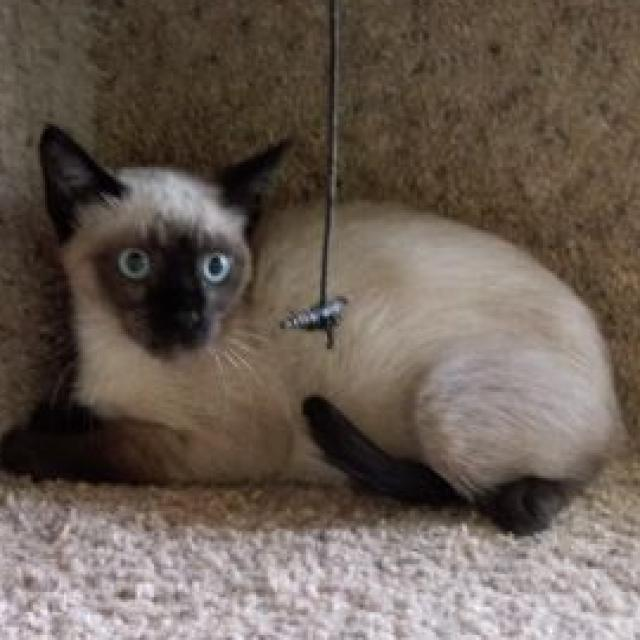Siamese: (0, 116, 623, 541)
